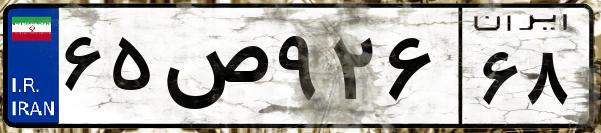2: (330, 28, 385, 110)
5: (110, 28, 158, 98)
6: (385, 28, 445, 110), (57, 26, 110, 100), (475, 38, 525, 113)
8: (525, 38, 570, 115)
9: (270, 28, 330, 110)
ص: (158, 20, 270, 120)
